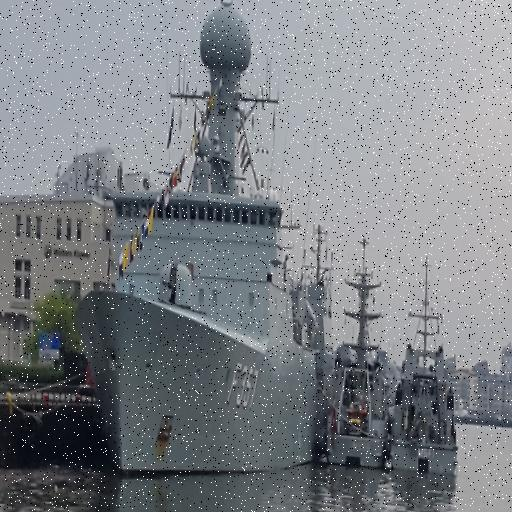Fragata: (70, 2, 335, 483)
